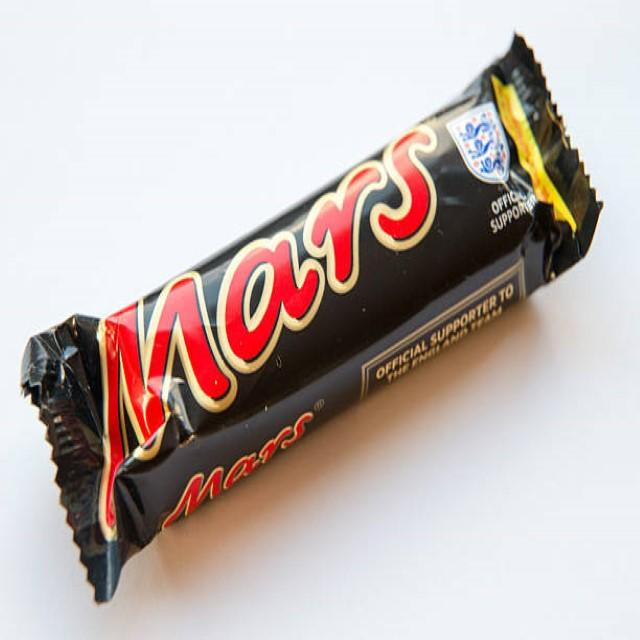mars_chocolate: (81, 35, 562, 547)
